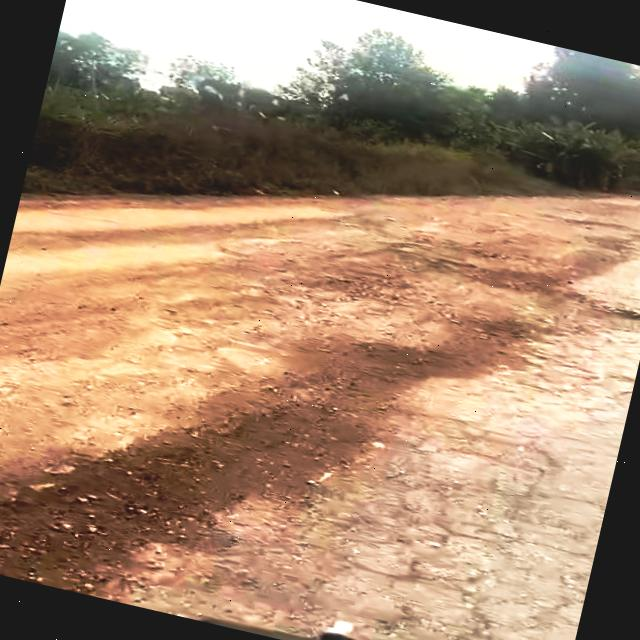pothole: (0, 351, 389, 640), (347, 323, 493, 402), (553, 289, 640, 342)
